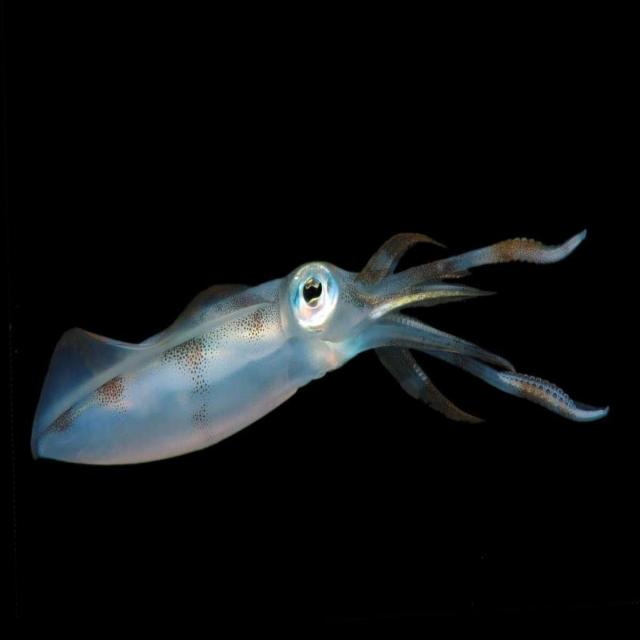squid: (31, 230, 607, 464)
